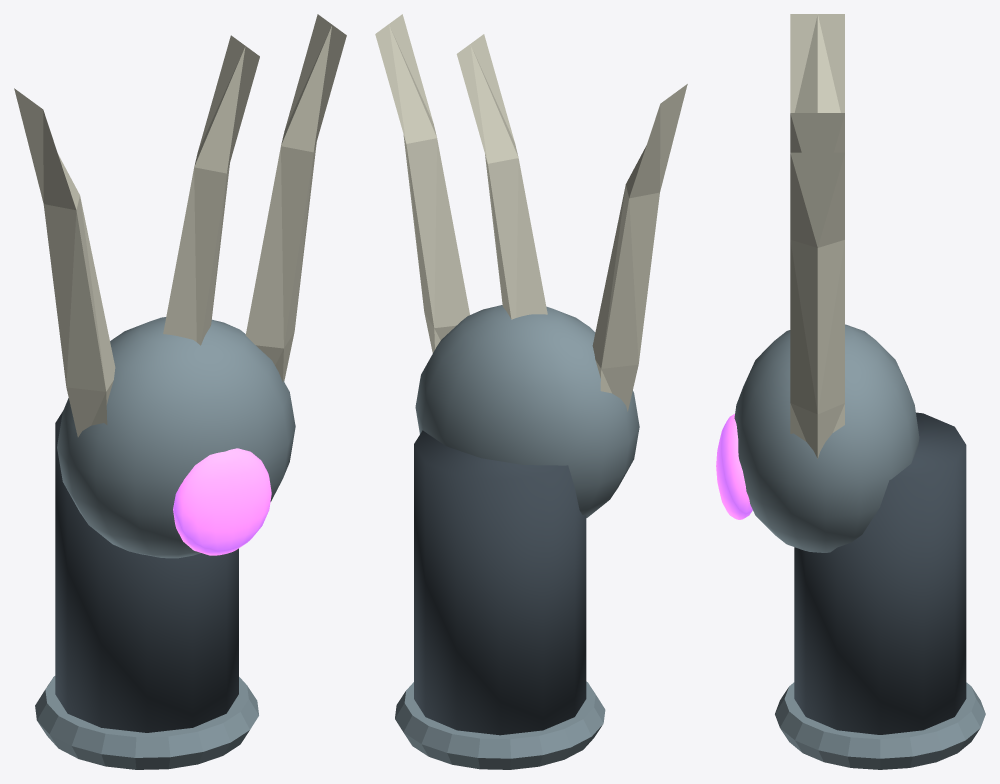
The model's file is YK_02_Claw_Weapon_E00.glb.
3 renders of one model, left to right at view 1: azimuth 30°, elevation 25°; view 2: azimuth 150°, elevation 25°; view 3: azimuth 270°, elevation 25°, orthographic. The views are drawn at different scales.
Parts seen in each view (by area): view 1: SM_YK_02_Claw_Weapon_P00; view 2: SM_YK_02_Claw_Weapon_P00; view 3: SM_YK_02_Claw_Weapon_P00.
Part boxes in pixels (x1,y1,x2,y2): SM_YK_02_Claw_Weapon_P00: [14, 14, 346, 769]; SM_YK_02_Claw_Weapon_P00: [375, 14, 687, 769]; SM_YK_02_Claw_Weapon_P00: [716, 14, 985, 769].
Bounding box in the file's own units: 0.42 × 0.9117 × 0.345.
